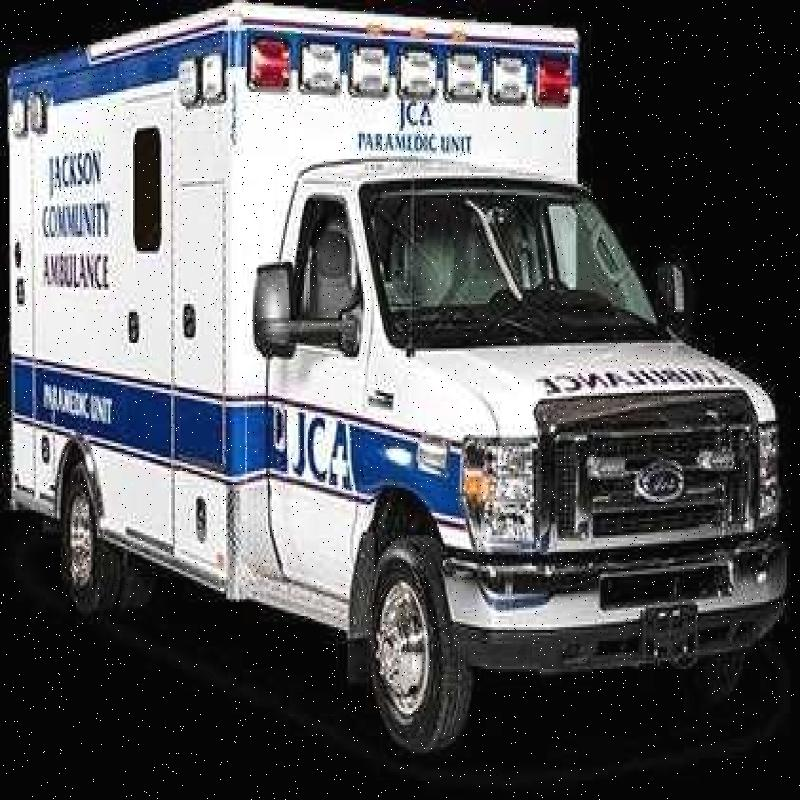AmbulanceSiren: (246, 28, 567, 118)
